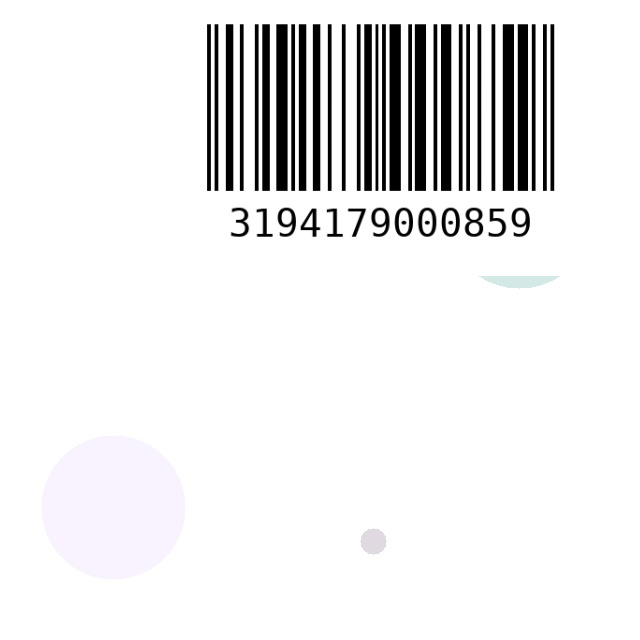barcode: (136, 14, 625, 276)
